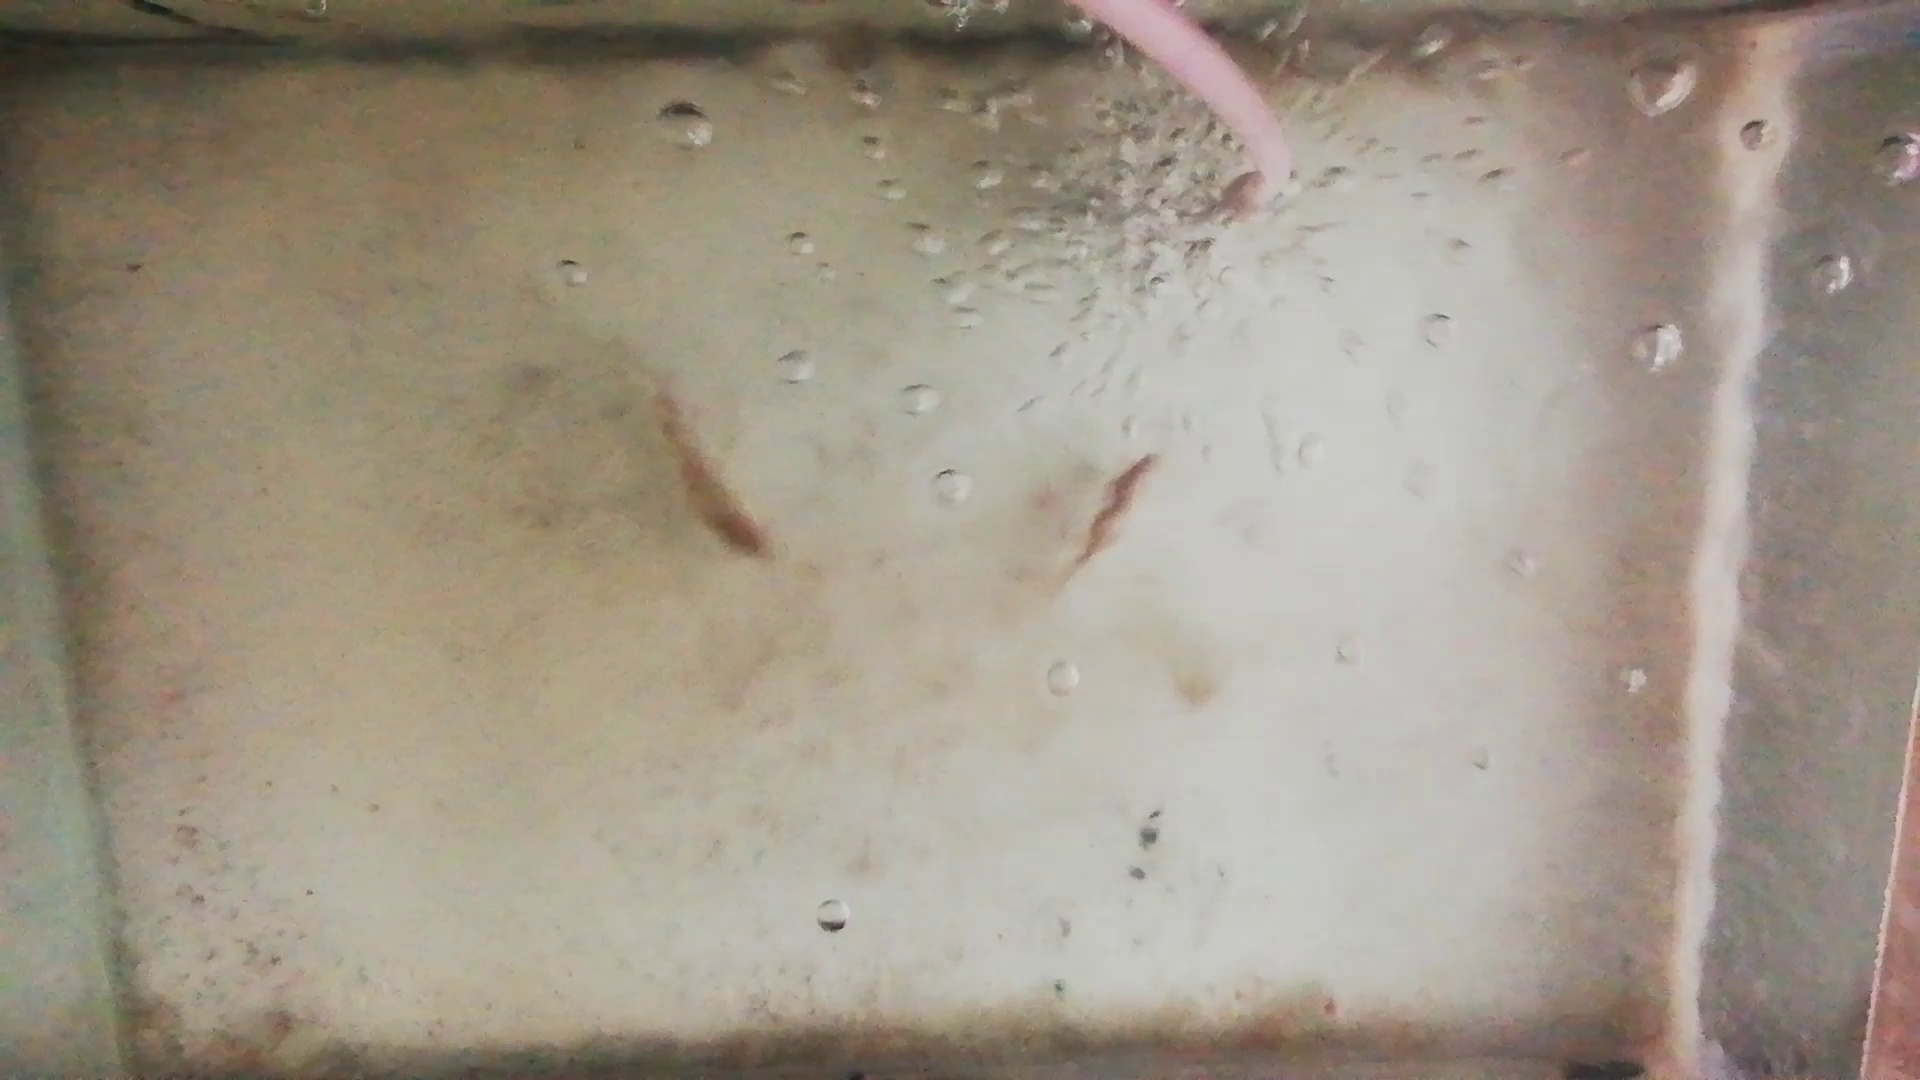fish: (654, 382, 770, 564), (1068, 454, 1160, 576)
